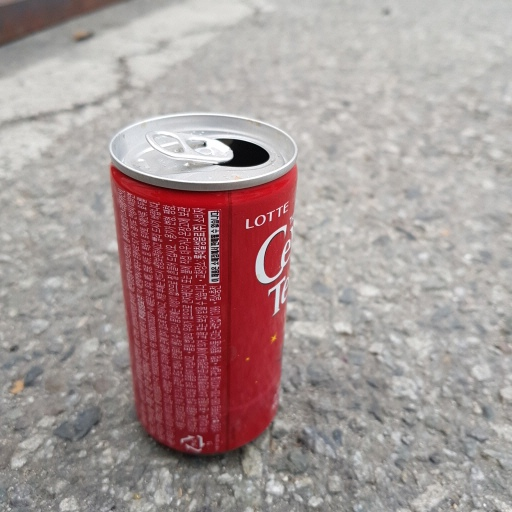Metal_0: (105, 112, 303, 461)
